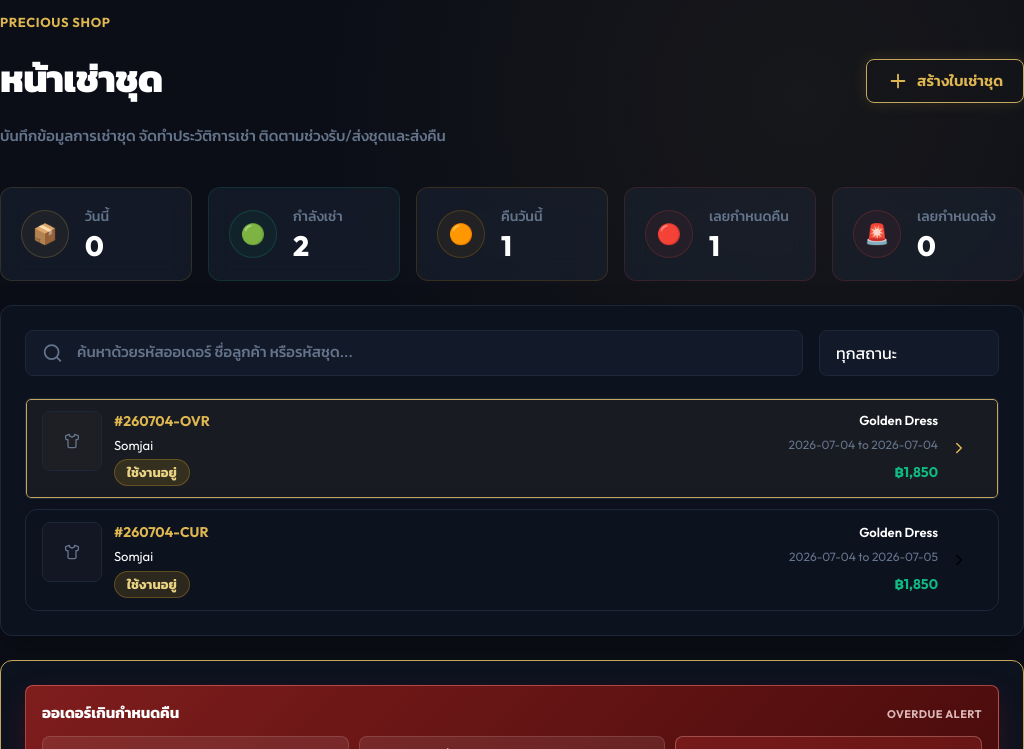
Test case: RentalsPage › includes active rentals past their return date in the overdue-return KPI filter
The width and height of the screenshot is (1024, 749).
Click the text "เลยกำหนดคืน" at (720, 234), box [624,187,816,280]
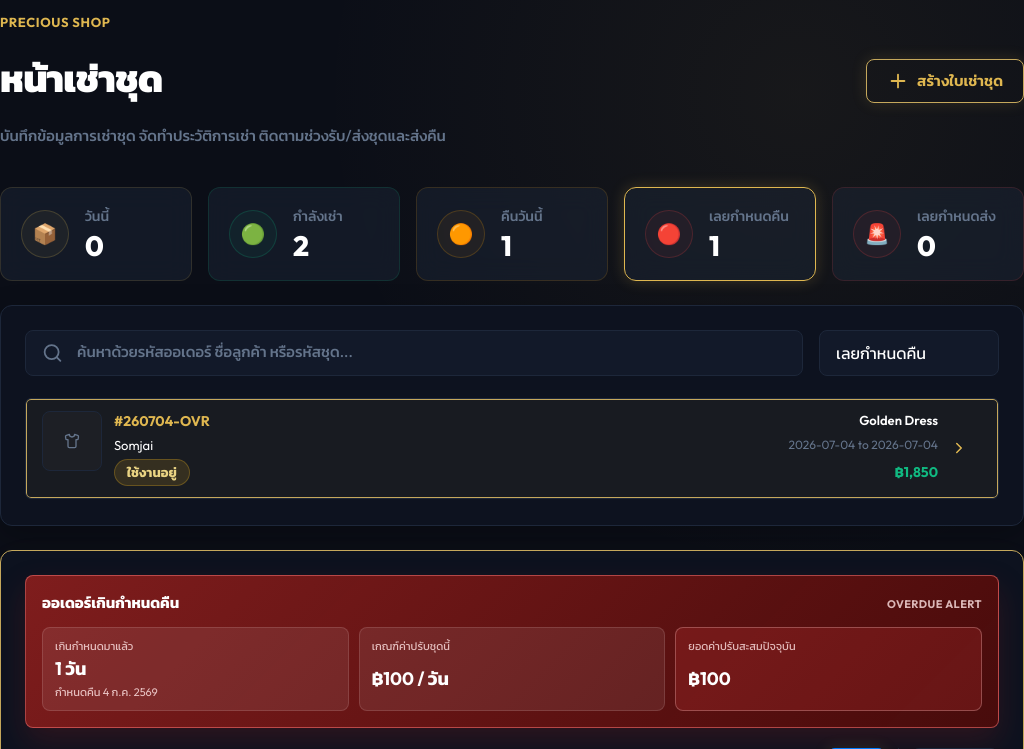
Expected: the row "#260704-OVR" is shown, [25,398,999,499]
Expected: the row "#260704-CUR" is gone
